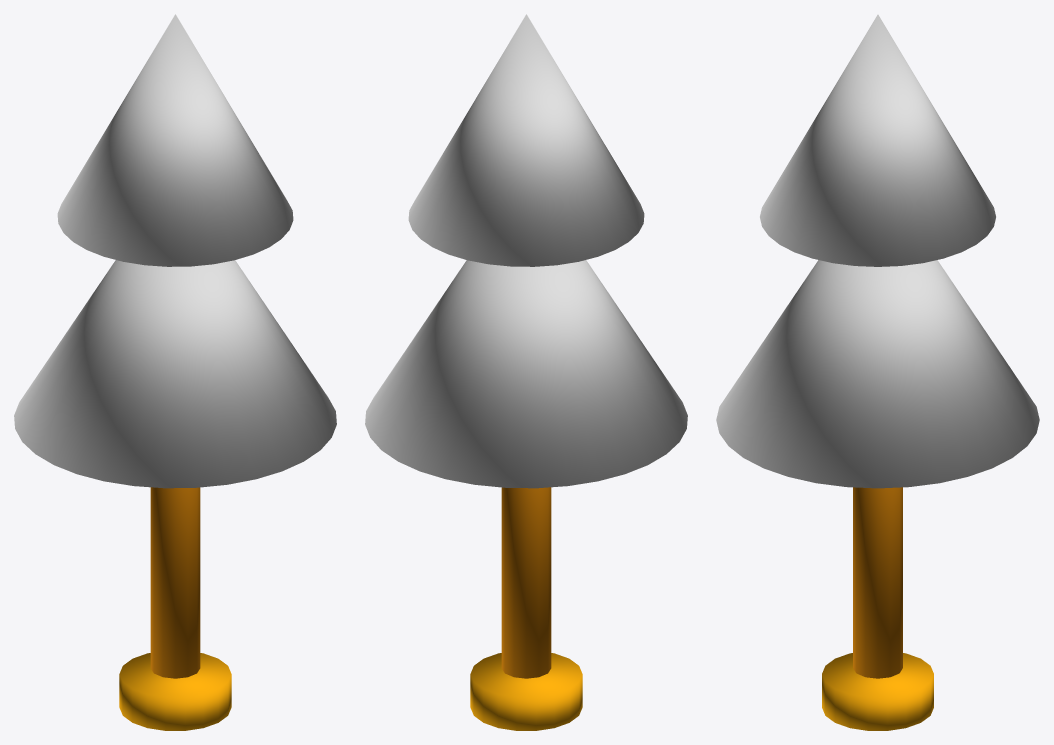
Rendered from prop_tree_white.glb.
The picture shows the model from 3 angles, left to right: view 1: azimuth 30°, elevation 25°; view 2: azimuth 150°, elevation 25°; view 3: azimuth 270°, elevation 25°; orthographic projection.
Visible parts, largest first — view 1: tree lower crown, tree upper crown, tree trunk, tree base; view 2: tree lower crown, tree upper crown, tree trunk, tree base; view 3: tree lower crown, tree upper crown, tree trunk, tree base.
Boxes of the visible parts, x1,y1,x2,y2 form: tree lower crown: (14, 260, 336, 488); tree upper crown: (57, 14, 293, 266); tree trunk: (150, 487, 200, 678); tree base: (119, 653, 231, 730); tree lower crown: (365, 260, 687, 488); tree upper crown: (408, 14, 644, 266); tree trunk: (501, 487, 551, 678); tree base: (470, 653, 582, 730); tree lower crown: (716, 260, 1039, 488); tree upper crown: (760, 14, 995, 266); tree trunk: (853, 487, 902, 678); tree base: (822, 653, 933, 730).
Size of the model in its own units: 0.26 by 0.615 by 0.26.
